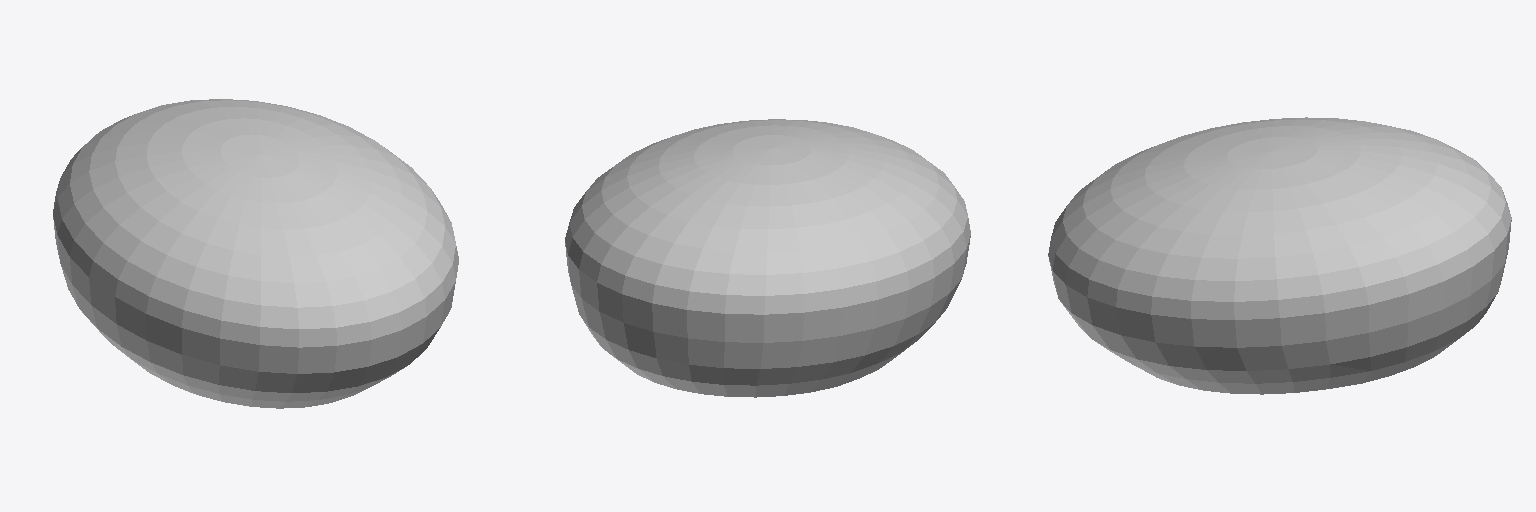
The model's file is Tartaruga-cabe.obj.
The picture shows the model from 3 angles: view 1: azimuth 30°, elevation 25°; view 2: azimuth 150°, elevation 25°; view 3: azimuth 270°, elevation 25°; orthographic projection.
Parts seen in each view (by area): view 1: Tartaruga-cabeca_Cylinder.008; view 2: Tartaruga-cabeca_Cylinder.008; view 3: Tartaruga-cabeca_Cylinder.008.
Boxes of the visible parts, box(x1,y1,x2,y2) form: Tartaruga-cabeca_Cylinder.008: box(53, 99, 458, 408); Tartaruga-cabeca_Cylinder.008: box(565, 119, 970, 397); Tartaruga-cabeca_Cylinder.008: box(1048, 117, 1511, 394).
Size of the model in its own units: 0.5073 by 0.309 by 0.61.